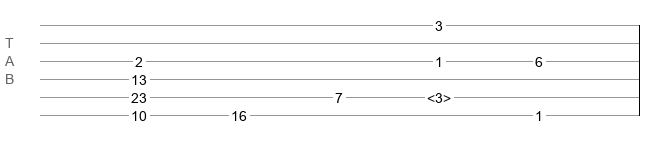1: (435, 54, 443, 64), (535, 108, 543, 118)
10: (131, 108, 147, 118)
13: (131, 72, 147, 82)
16: (231, 108, 247, 118)
2: (135, 54, 143, 64)
23: (131, 90, 147, 100)
3: (435, 18, 443, 28)
6: (535, 54, 543, 64)
7: (335, 90, 343, 100)
harmonic: (427, 90, 451, 100)
